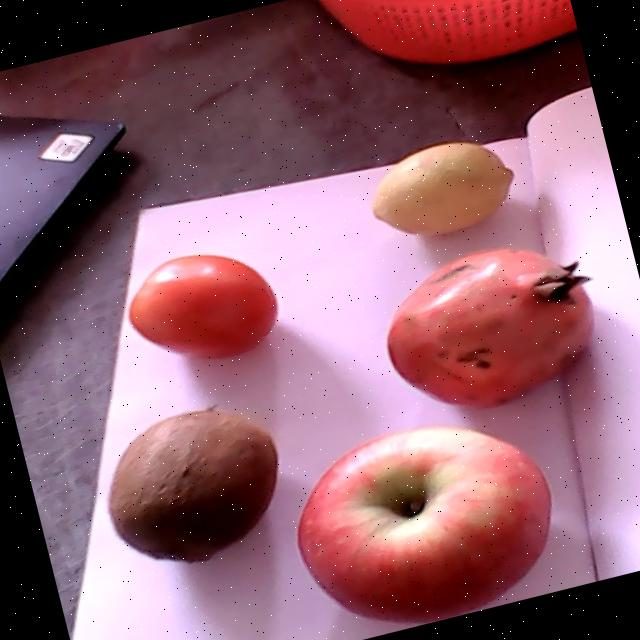apple: (296, 425, 551, 624)
kiwi: (105, 403, 276, 563)
pomegranate: (387, 247, 592, 407), (371, 140, 513, 233)
tomato: (128, 255, 274, 357)
